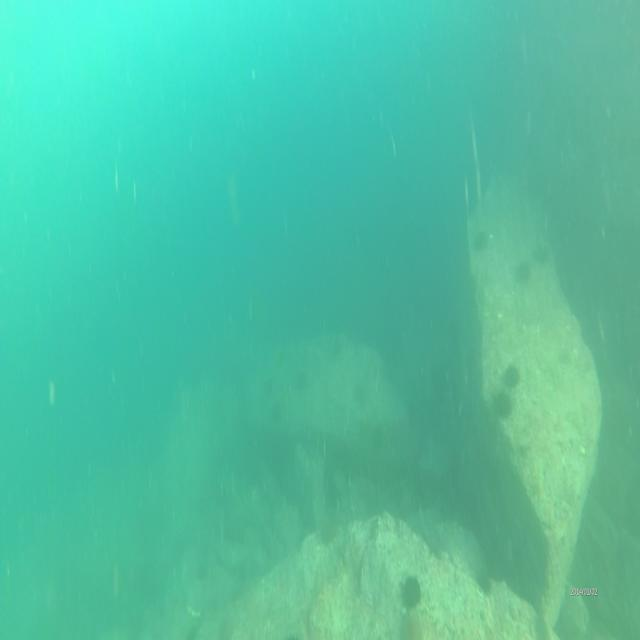echinus: (397, 572, 422, 608), (473, 565, 493, 594), (511, 257, 532, 280), (494, 396, 511, 424), (471, 229, 492, 249), (292, 368, 310, 391), (500, 365, 519, 386), (534, 244, 552, 264), (353, 385, 369, 405), (331, 338, 342, 357)
